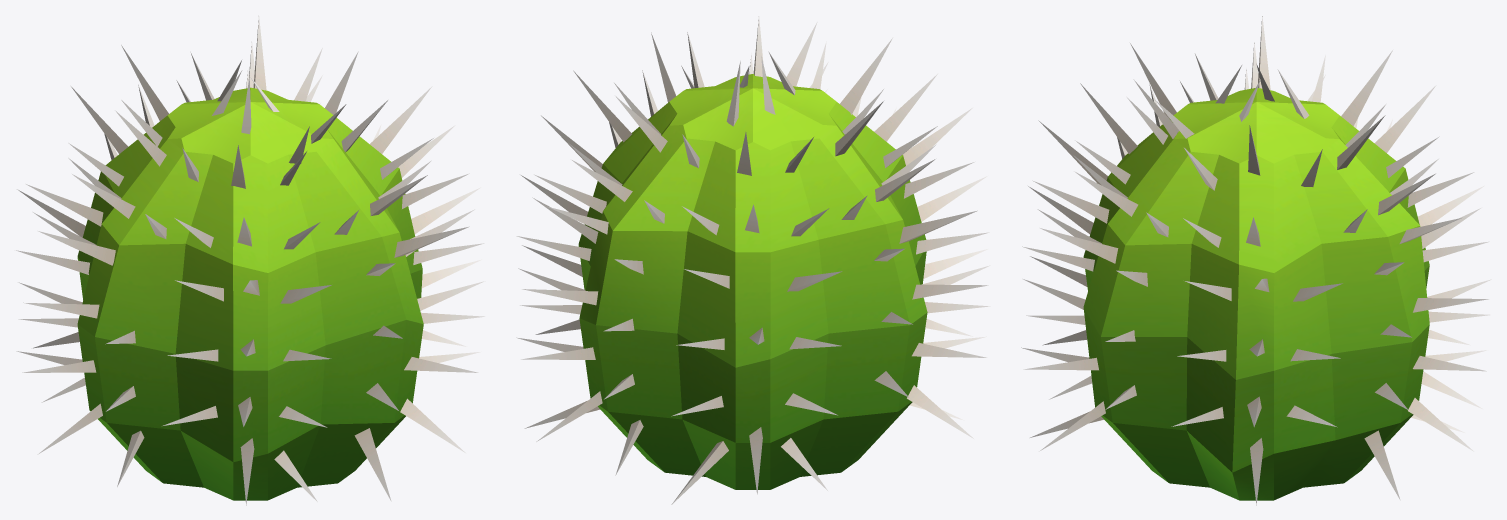
3 views of the same model, side by side, from view 1: azimuth 30°, elevation 25°; view 2: azimuth 150°, elevation 25°; view 3: azimuth 270°, elevation 25° (orthographic).
Parts seen in each view (by area): view 1: CactusMini; view 2: CactusMini; view 3: CactusMini.
Part boxes in pixels (bbox=[...]): CactusMini: bbox=[16, 16, 485, 505]; CactusMini: bbox=[516, 16, 990, 504]; CactusMini: bbox=[1021, 16, 1491, 505].
Size of the model in its own units: 1.22 by 0.9701 by 1.08.
Materials: 1 (1 with a texture image).
